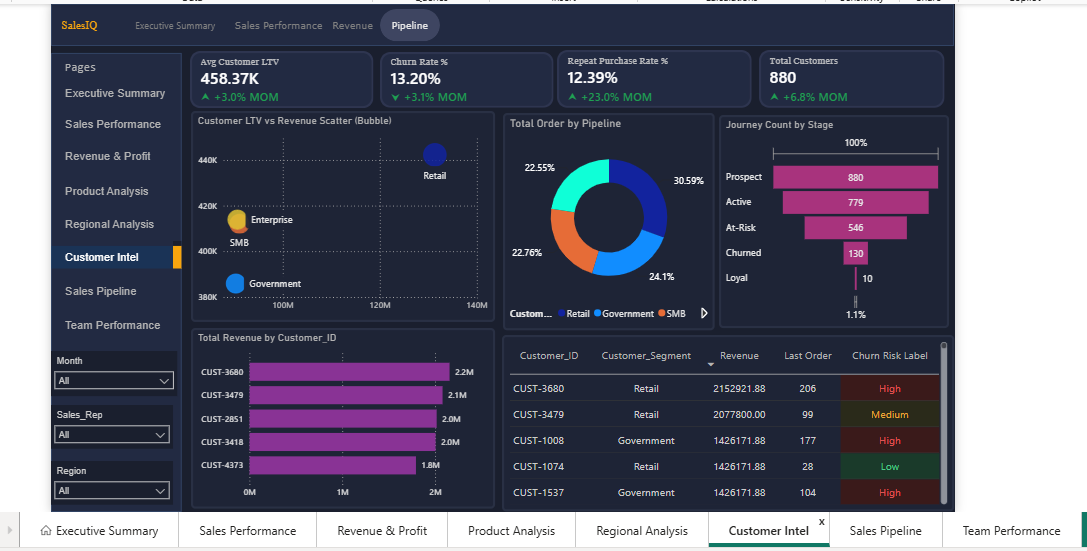

The page's visual inventory and layout, read from the dashboard file:
{"tool":"powerbi","page":{"name":"Customer Intel","canvas":[1280,720],"ordinal":5},"visuals":[{"type":"shape","box":[0,0,1279.8,59.5],"z":0,"group":"g9"},{"type":"shape","box":[0,62,185,657.6],"z":0,"group":"g7"},{"type":"cardVisual","title":"Total Revenue ","fields":{"Data":["Table1.Churn Rate %"]},"box":[466,68,246,79],"z":0},{"type":"actionButton","box":[0,103.3,185,39.4],"z":0,"group":"g1"},{"type":"actionButton","box":[0,146.7,185,39.4],"z":0,"group":"g2"},{"type":"actionButton","box":[0,192,186,37.3],"z":0,"group":"g3"},{"type":"actionButton","box":[0,242.2,185,39.4],"z":0,"group":"g4"},{"type":"actionButton","box":[0,289.4,185,39.4],"z":0,"group":"g5"},{"type":"actionButton","box":[0,336.2,185,39.4],"z":0,"group":"g6"},{"type":"actionButton","box":[0,383.7,185,39.4],"z":0,"group":"g10"},{"type":"actionButton","box":[0,431.3,185,39.4],"z":0,"group":"g8"},{"type":"actionButton","box":[109,6.9,134,45.8],"z":1000,"group":"g9"},{"type":"cardVisual","title":"Total Revenue ","fields":{"Data":["Table1.Avg Customer LTV"]},"box":[197,66,260,81],"z":1000},{"type":"group","id":"g1","title":"Executive summary 1","box":[0,103.3,185,39.4],"z":1000,"group":"g7"},{"type":"shape","box":[173,336.2,12,39.4],"z":1000,"group":"g6"},{"type":"actionButton","box":[255,6.9,135,45.8],"z":2000,"group":"g9"},{"type":"cardVisual","title":"Total Revenue ","fields":{"Data":["Table1.Total Customers"]},"box":[1003,65,263,82.2],"z":2000},{"type":"group","id":"g2","title":"Executive summary 1","box":[0,146.7,185,39.4],"z":2000,"group":"g7"},{"type":"actionButton","box":[390,6.9,76,45.8],"z":3000,"group":"g9"},{"type":"cardVisual","title":"Total Revenue ","fields":{"Data":["Table1.Repeat Purchase Rate %"]},"box":[717,65.2,276.4,82.2],"z":3000},{"type":"group","id":"g3","title":"Executive summary 1","box":[0,192,186,37.3],"z":3000,"group":"g7"},{"type":"slicer","fields":{"Values":["Table1.Region"]},"box":[1097,3,172.9,48.2],"z":4000},{"type":"actionButton","box":[465.9,6.9,85,45.8],"z":4000,"group":"g9"},{"type":"group","id":"g4","title":"Executive summary 1","box":[0,242.2,185,39.4],"z":4000,"group":"g7"},{"type":"slicer","fields":{"Values":["Table1.Product_Category"]},"box":[914.2,3,172.9,49.6],"z":5000},{"type":"group","id":"g5","title":"Executive summary 1","box":[0,289.4,185,39.4],"z":5000,"group":"g7"},{"type":"slicer","fields":{"Values":["Calendar.Month"]},"box":[725.7,3,172.9,49.6],"z":6000},{"type":"group","id":"g6","title":"Executive summary 1","box":[0,336.2,185,39.4],"z":6000,"group":"g7"},{"type":"group","id":"g7","title":"1 side bar","box":[0,62,186,657.6],"z":7000},{"type":"group","id":"g8","title":"Executive summary 1","box":[0,431.3,185,39.4],"z":7000,"group":"g7"},{"type":"group","id":"g9","title":"1 Header","box":[0,0,1280,59.1],"z":8000},{"type":"group","id":"g10","title":"Executive summary 1","box":[0,383.7,185,39.4],"z":8000,"group":"g7"},{"type":"slicer","fields":{"Values":["Table1.Sales_Rep"]},"box":[0,568.3,172.9,62.4],"z":9000},{"type":"slicer","fields":{"Values":["Table1.Region"]},"box":[0,647.7,172.9,62.4],"z":10000},{"type":"funnel","fields":{"Category":["Customer Journey.Stage"],"Y":["Table1.Journey Count"]},"box":[947,157.6,325.6,301.8],"z":11000},{"type":"donutChart","title":"Total Order by Pipeline","fields":{"Category":["Table1.Customer_Segment"],"Y":["Count(Table1.Customer_ID)"]},"box":[640.7,154.6,300.3,307.7],"z":12000},{"type":"tableEx","fields":{"Values":["Table1.Customer_ID","Table1.Customer_Segment","Sum(Table1.Revenue_PKR)","Sum(Table1.Days_to_Close)","Table1.Churn Risk Label"]},"box":[639.3,469.8,640.7,249.8],"z":13000},{"type":"slicer","fields":{"Values":["Calendar.Month"]},"box":[0,491.8,178.6,63.8],"z":14000},{"type":"scatterChart","title":"Customer LTV vs Revenue Scatter (Bubble)","fields":{"X":["Sum(Table1.Revenue_PKR)"],"Y":["Table1.Avg Customer LTV"],"Series":["Table1.Customer_Segment"],"Size":["Sum(Table1.Revenue_PKR)"]},"box":[197.7,151.6,431.1,298.8],"z":15000},{"type":"clusteredBarChart","title":"Total Revenue by Customer_ID","fields":{"Y":["Sum(Table1.Revenue_PKR)"],"Category":["Table1.Customer_ID"]},"box":[197.7,459.4,431.1,255.7],"z":16000}]}

Visuals, with their boxes on the page's 1280x720 design canvas (x1, y1, x2, y2). These are canvas units, not pixel positions in the 1087x551 screenshot, which may show the page scaled, cropped or inside an application window:
shape: select_region(0, 0, 1280, 60)
shape: select_region(0, 62, 185, 720)
"Total Revenue " cardVisual: select_region(466, 68, 712, 147)
actionButton: select_region(0, 103, 185, 143)
actionButton: select_region(0, 147, 185, 186)
actionButton: select_region(0, 192, 186, 229)
actionButton: select_region(0, 242, 185, 282)
actionButton: select_region(0, 289, 185, 329)
actionButton: select_region(0, 336, 185, 376)
actionButton: select_region(0, 384, 185, 423)
actionButton: select_region(0, 431, 185, 471)
actionButton: select_region(109, 7, 243, 53)
"Total Revenue " cardVisual: select_region(197, 66, 457, 147)
"Executive summary 1" group: select_region(0, 103, 185, 143)
shape: select_region(173, 336, 185, 376)
actionButton: select_region(255, 7, 390, 53)
"Total Revenue " cardVisual: select_region(1003, 65, 1266, 147)
"Executive summary 1" group: select_region(0, 147, 185, 186)
actionButton: select_region(390, 7, 466, 53)
"Total Revenue " cardVisual: select_region(717, 65, 993, 147)
"Executive summary 1" group: select_region(0, 192, 186, 229)
slicer - Table1.Region: select_region(1097, 3, 1270, 51)
actionButton: select_region(466, 7, 551, 53)
"Executive summary 1" group: select_region(0, 242, 185, 282)
slicer - Table1.Product_Category: select_region(914, 3, 1087, 53)
"Executive summary 1" group: select_region(0, 289, 185, 329)
slicer - Calendar.Month: select_region(726, 3, 899, 53)
"Executive summary 1" group: select_region(0, 336, 185, 376)
"1 side bar" group: select_region(0, 62, 186, 720)
"Executive summary 1" group: select_region(0, 431, 185, 471)
"1 Header" group: select_region(0, 0, 1280, 59)
"Executive summary 1" group: select_region(0, 384, 185, 423)
slicer - Table1.Sales_Rep: select_region(0, 568, 173, 631)
slicer - Table1.Region: select_region(0, 648, 173, 710)
funnel - Customer Journey.Stage x Table1.Journey Count: select_region(947, 158, 1273, 459)
"Total Order by Pipeline" donutChart: select_region(641, 155, 941, 462)
tableEx - Table1.Customer_ID x Table1.Customer_Segment: select_region(639, 470, 1280, 720)
slicer - Calendar.Month: select_region(0, 492, 179, 556)
"Customer LTV vs Revenue Scatter (Bubble)" scatterChart: select_region(198, 152, 629, 450)
"Total Revenue by Customer_ID" clusteredBarChart: select_region(198, 459, 629, 715)
